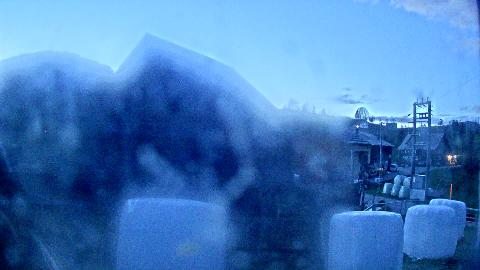car: (390, 164, 398, 172), (418, 161, 426, 167)
sheep: (378, 200, 392, 210)
